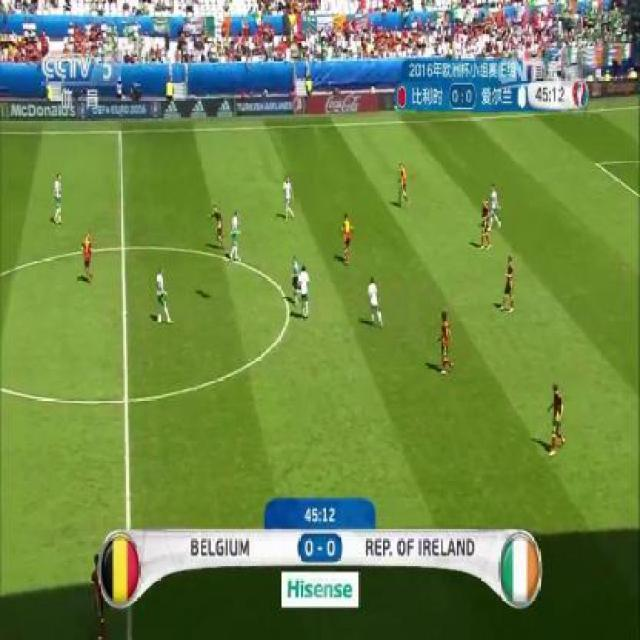player: (545, 377, 576, 459), (145, 261, 177, 329), (434, 308, 462, 378), (334, 209, 359, 274), (227, 208, 253, 267), (393, 151, 418, 212), (500, 251, 521, 321), (47, 168, 70, 228), (472, 193, 496, 250), (298, 262, 318, 326), (367, 272, 386, 338), (78, 227, 98, 288), (285, 252, 304, 308), (487, 175, 505, 231), (279, 171, 297, 226)
referee: (208, 193, 227, 252)
